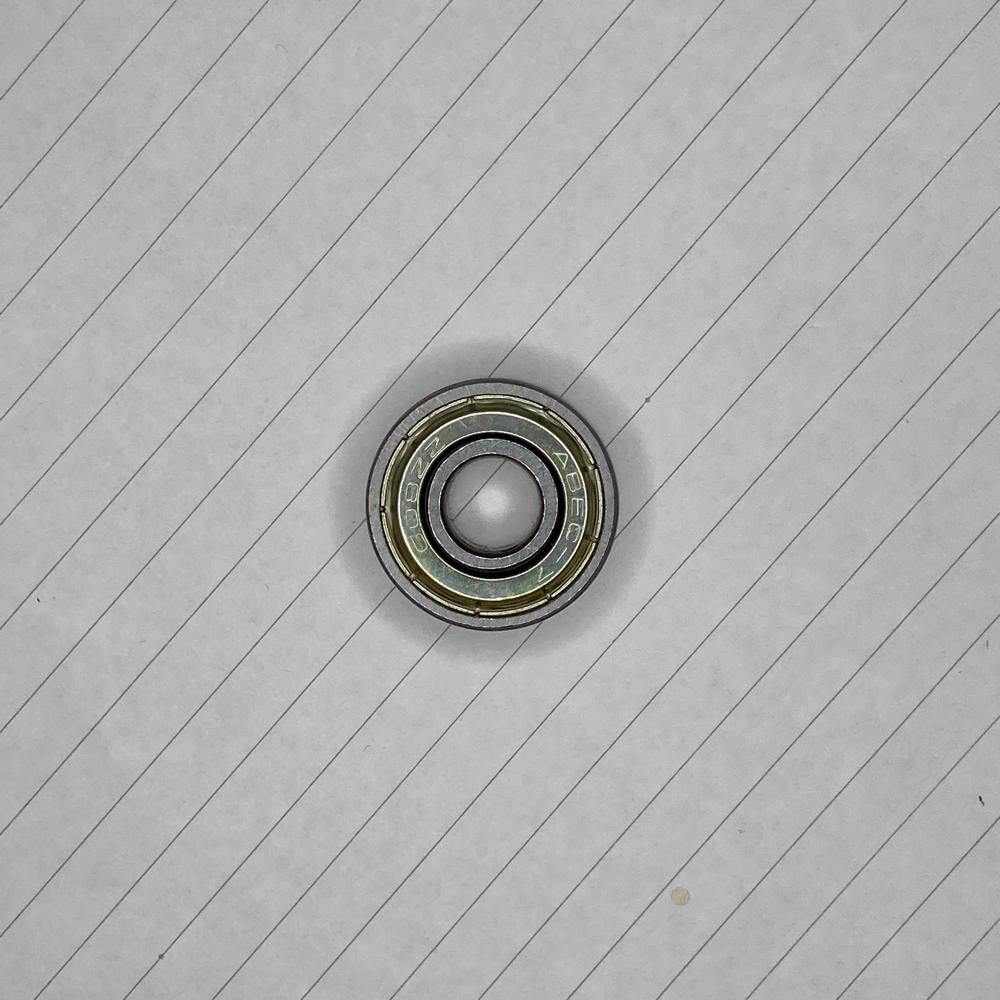ball_bearing: (365, 374, 621, 634)
